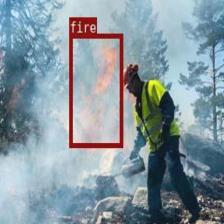fire: (69, 33, 122, 147)
